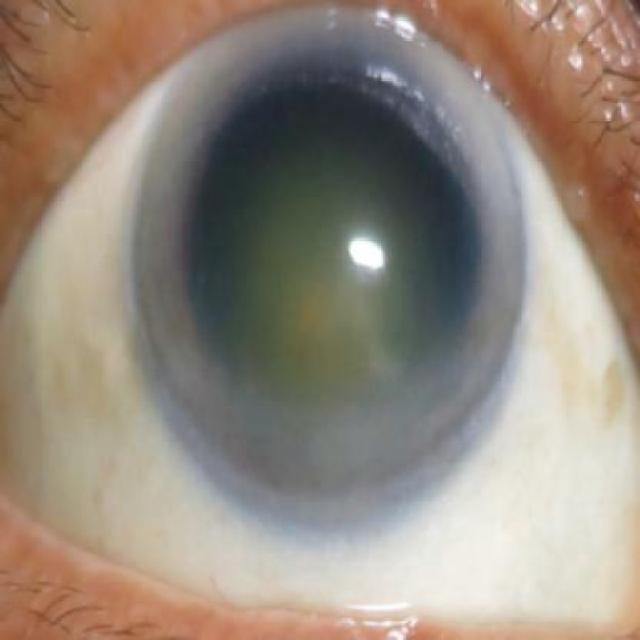Cataract: (131, 12, 535, 504)
